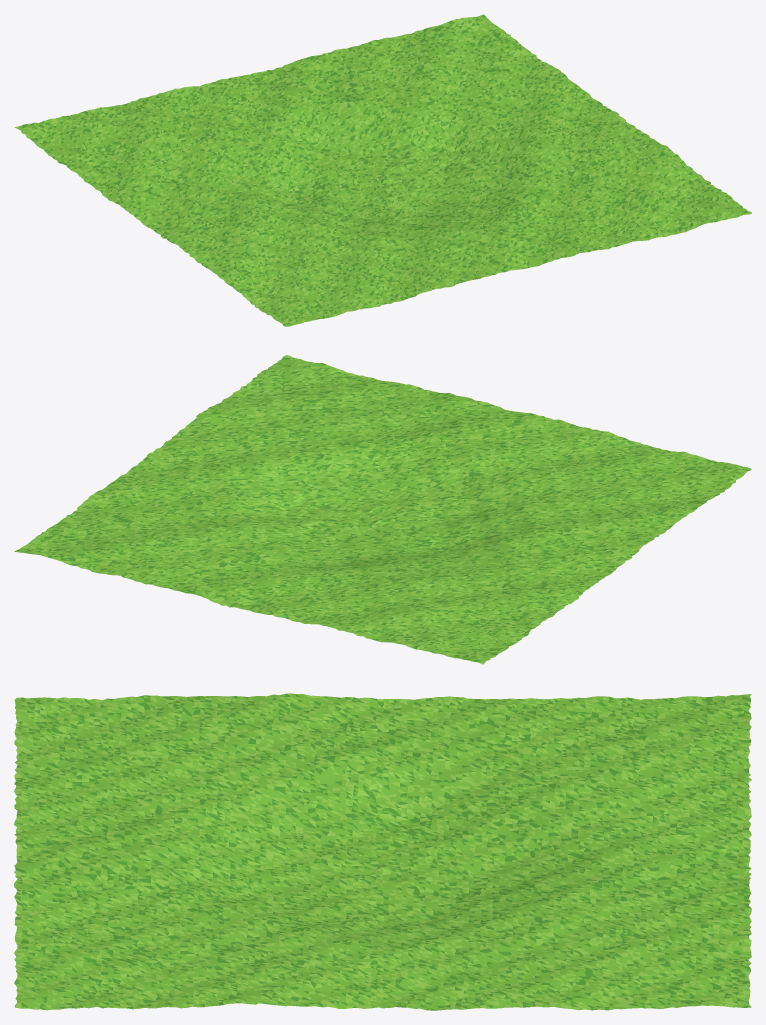
Rendered from terreno_mapa.glb.
3 renders of one model, top to bottom at view 1: azimuth 30°, elevation 25°; view 2: azimuth 150°, elevation 25°; view 3: azimuth 270°, elevation 25°, orthographic. The views are drawn at different scales.
Parts seen in each view (by area): view 1: terreno_pasto, terreno_pasto_claro, terreno_pasto_oscuro; view 2: terreno_pasto, terreno_pasto_claro, terreno_pasto_oscuro; view 3: terreno_pasto, terreno_pasto_claro, terreno_pasto_oscuro.
Boxes of the visible parts, left/top/right/bottom form: terreno_pasto: left=18, top=14, right=751, bottom=326; terreno_pasto_claro: left=14, top=17, right=750, bottom=326; terreno_pasto_oscuro: left=22, top=14, right=746, bottom=325; terreno_pasto: left=14, top=355, right=751, bottom=662; terreno_pasto_claro: left=22, top=355, right=751, bottom=664; terreno_pasto_oscuro: left=15, top=357, right=749, bottom=661; terreno_pasto: left=14, top=693, right=751, bottom=1010; terreno_pasto_claro: left=14, top=693, right=751, bottom=1010; terreno_pasto_oscuro: left=14, top=694, right=751, bottom=1010.
Bounding box in the file's own units: 462 × 14.93 × 462.
